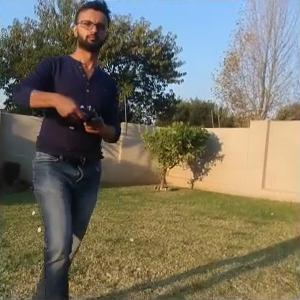follow: (8, 0, 125, 298)
